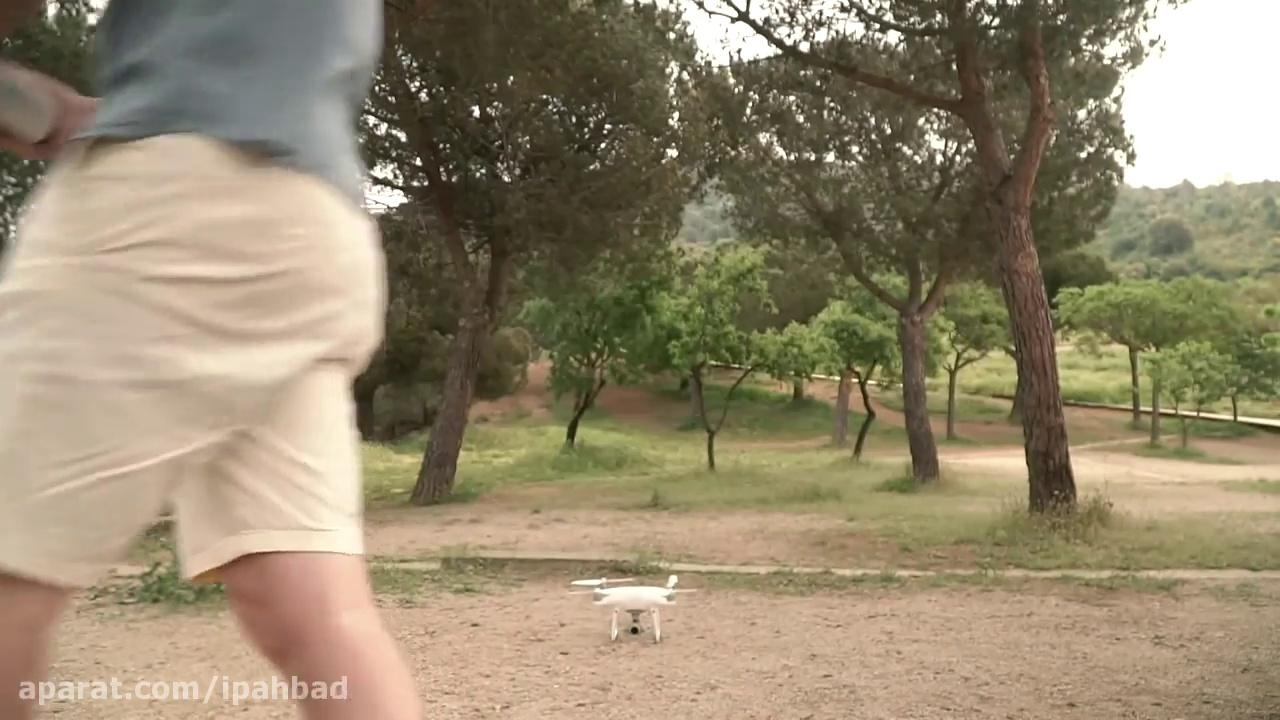drone: (569, 569, 698, 646)
